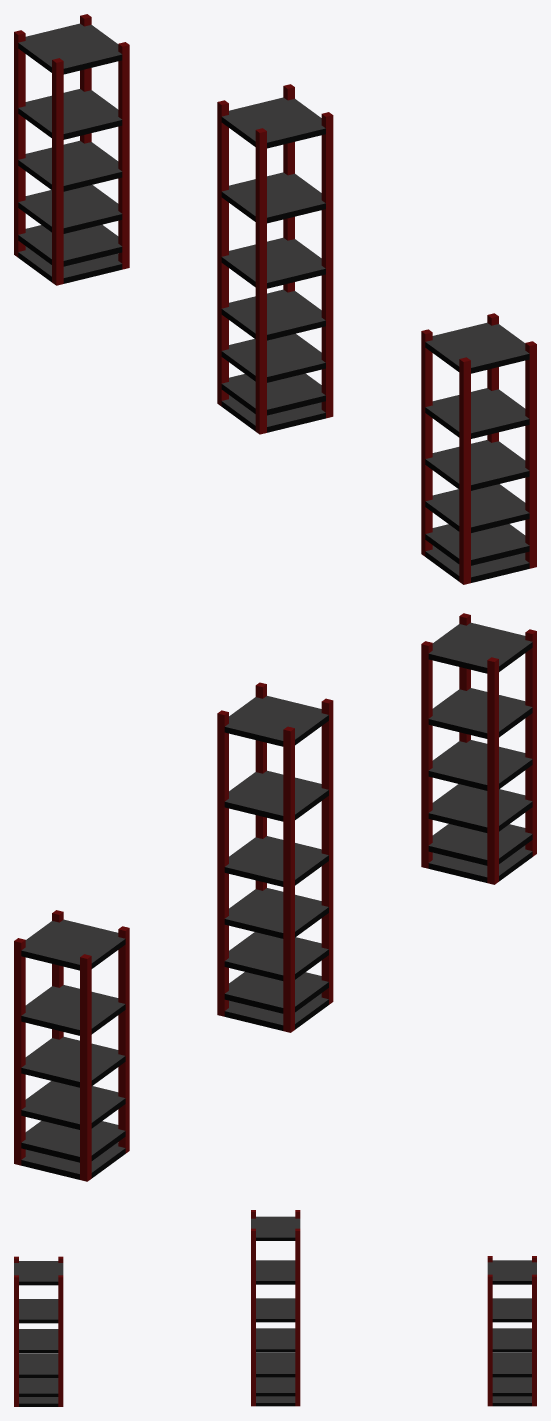
The model's file is towers.glb.
3 renders of one model, top to bottom at view 1: azimuth 30°, elevation 25°; view 2: azimuth 150°, elevation 25°; view 3: azimuth 270°, elevation 25°, orthographic. The views are drawn at different scales.
Visible parts, largest first — view 1: Sketchup, Sketchup.001, Sketchup.002, Sketchup.020, Sketchup.040; view 2: Sketchup, Sketchup.001, Sketchup.002, Sketchup.020, Sketchup.040; view 3: Sketchup, Sketchup.001, Sketchup.002, Sketchup.020.
Boxes of the visible parts, x1,y1,x2,y2 form: Sketchup: (18, 23, 529, 577); Sketchup.001: (14, 14, 536, 584); Sketchup.002: (18, 43, 529, 582); Sketchup.020: (222, 97, 325, 142); Sketchup.040: (255, 130, 259, 434); Sketchup: (21, 622, 532, 1173); Sketchup.001: (14, 615, 536, 1181); Sketchup.002: (21, 642, 532, 1179); Sketchup.020: (225, 696, 328, 740); Sketchup.040: (329, 700, 333, 1004); Sketchup: (14, 1260, 536, 1403); Sketchup.001: (14, 1210, 536, 1406); Sketchup.002: (19, 1237, 531, 1406); Sketchup.020: (251, 1216, 300, 1237).
Bounding box in the file's own units: 0.508 × 2 × 5.39.
